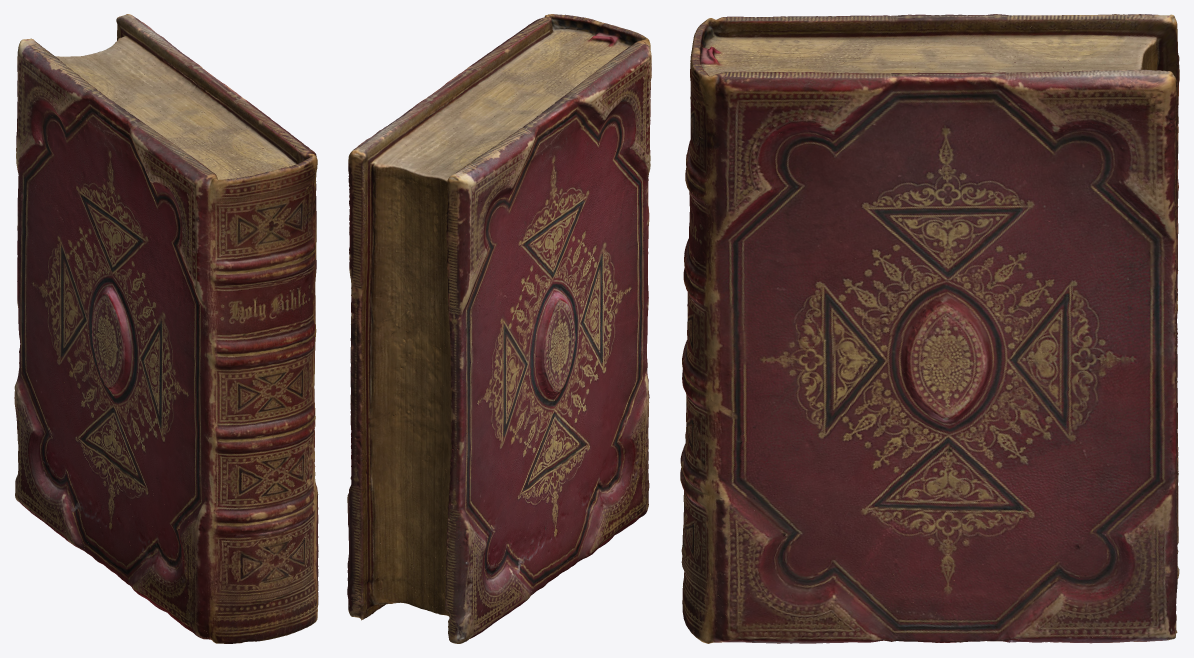
The model's file is obj_holy_bible_5a59a1.glb.
3 views of the same model, side by side, from view 1: azimuth 30°, elevation 25°; view 2: azimuth 150°, elevation 25°; view 3: azimuth 270°, elevation 25° (orthographic). The views are drawn at different scales.
Parts seen in each view (by area): view 1: obj_holy_bible_5a59a1; view 2: obj_holy_bible_5a59a1; view 3: obj_holy_bible_5a59a1.
Boxes of the visible parts, <box> form: obj_holy_bible_5a59a1: <box>14,14,318,643</box>; obj_holy_bible_5a59a1: <box>347,14,651,643</box>; obj_holy_bible_5a59a1: <box>680,14,1179,643</box>.
Bounding box in the file's own units: 0.0672 × 0.24 × 0.1902.
1 material, 1 textured.
